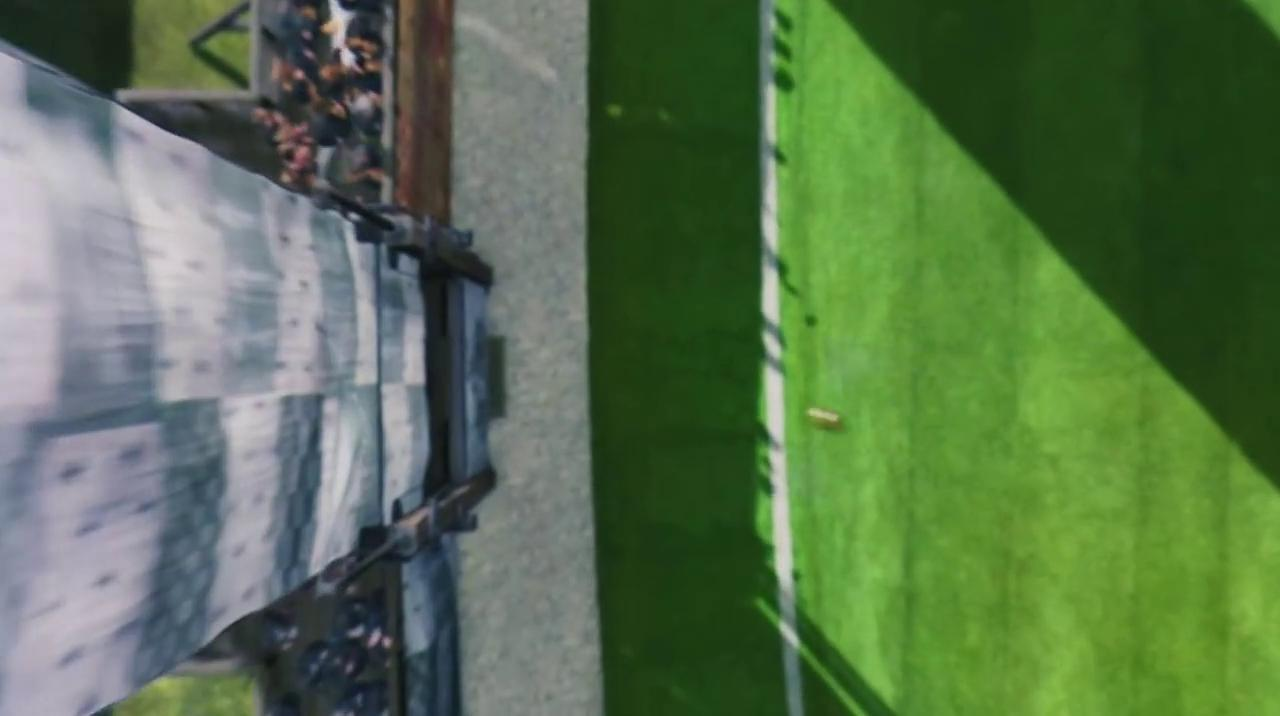snitch: (812, 407, 841, 432)
